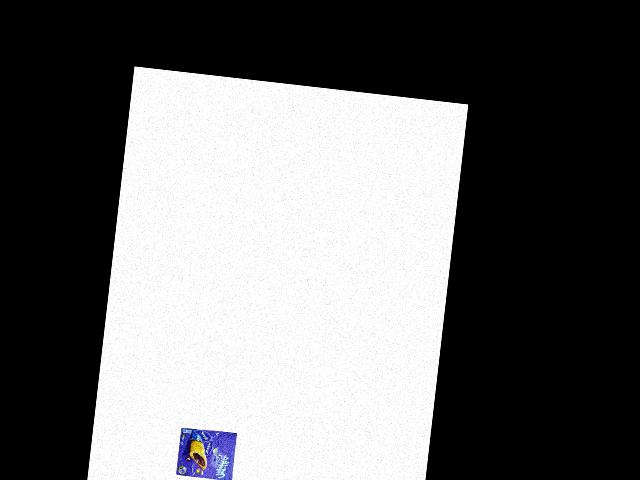chocolate: (171, 424, 241, 480)
